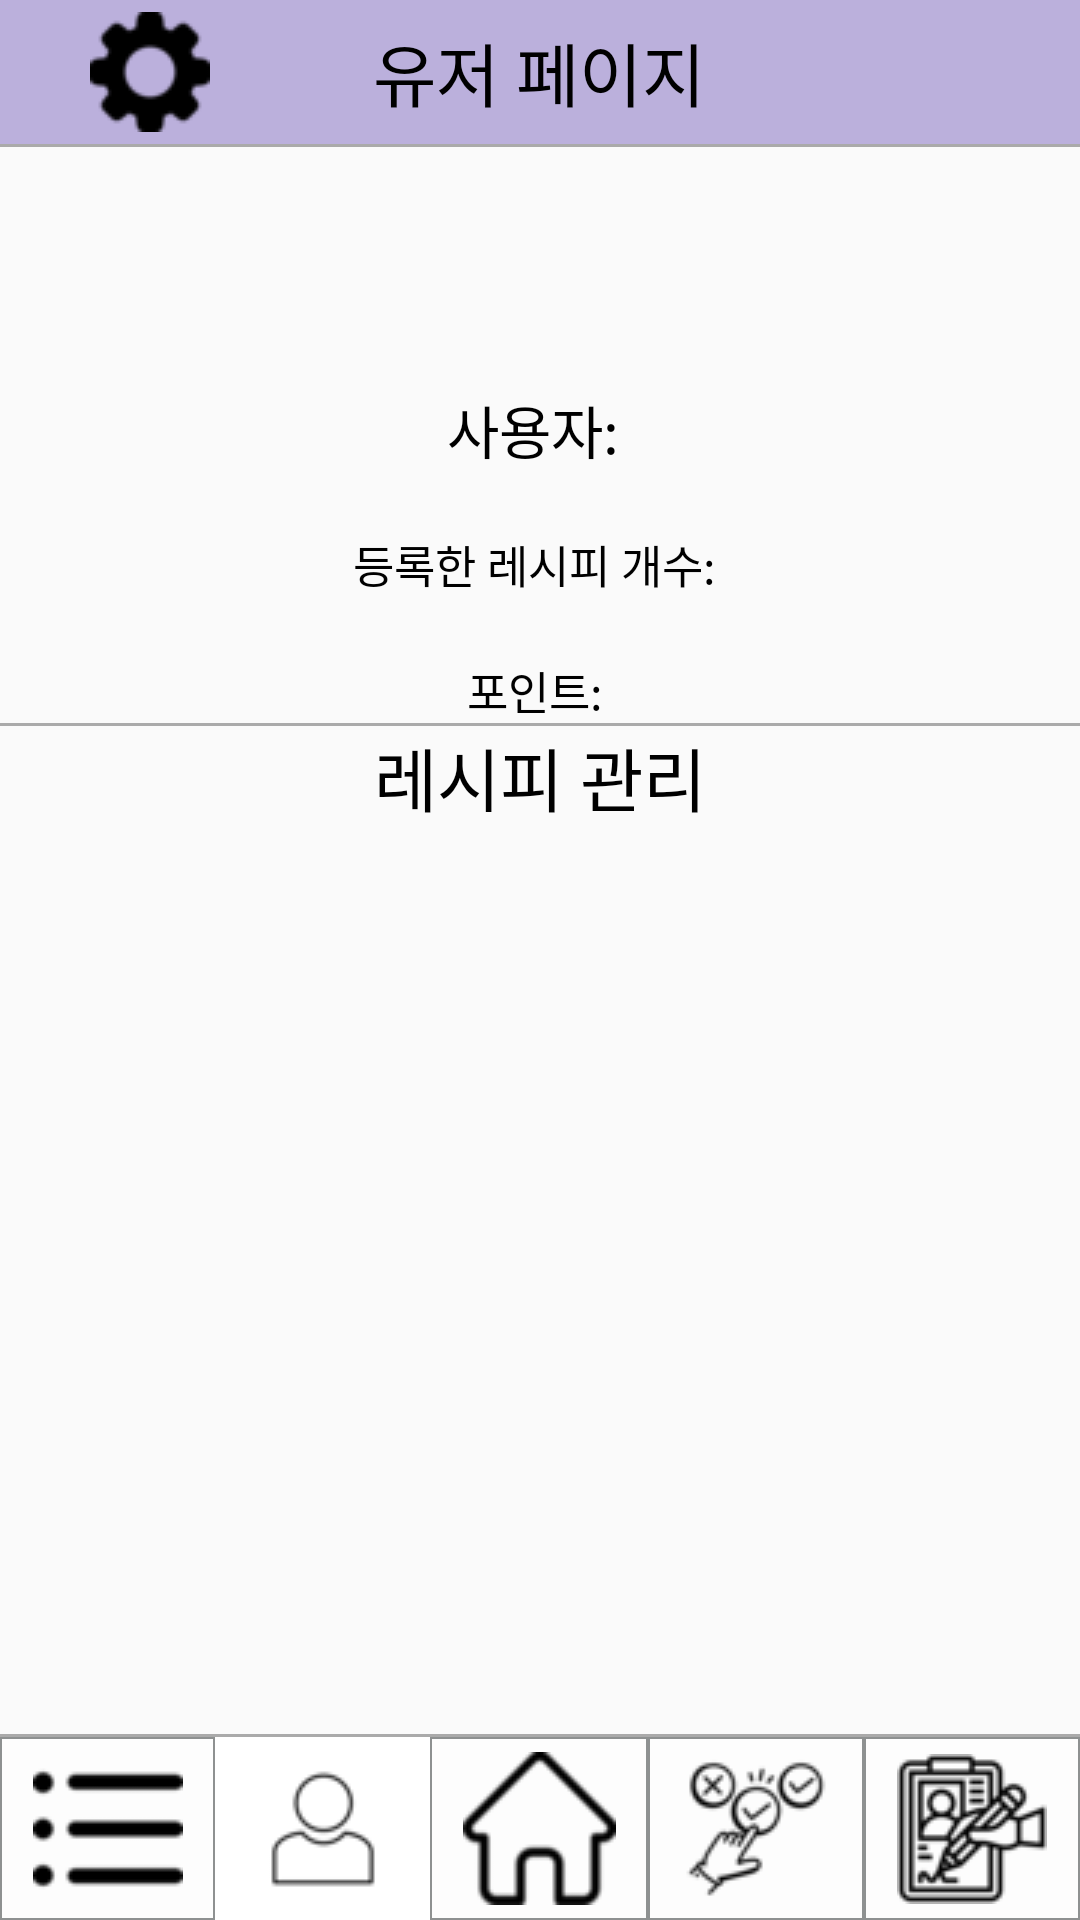

Where to tap for icons on this 1080w x 1920h app screen, as [x,y]:
home: [539,1828]
list: [108,1829]
prefer: [756,1828]
setbtn: [150,72]
user: [323,1829]
